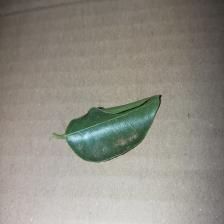healthy: (66, 91, 163, 165)
